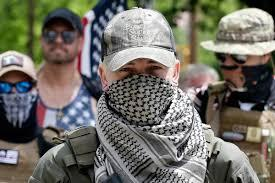cap: (100, 3, 177, 73)
scarf-kerchief: (93, 72, 205, 183)
